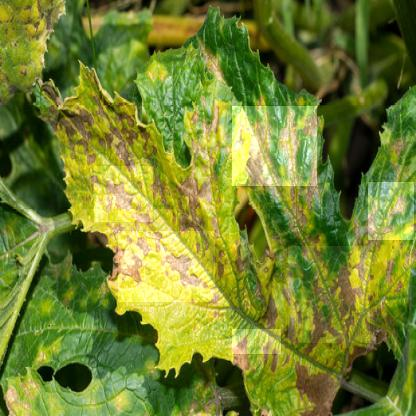black-spot: (288, 246, 370, 343), (118, 231, 215, 302), (232, 106, 317, 186), (94, 166, 153, 222), (368, 182, 414, 240), (232, 329, 281, 354)
